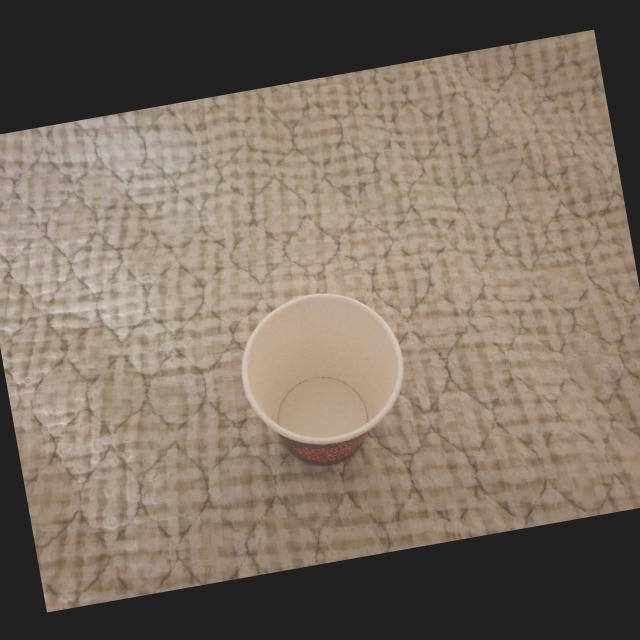trash: (225, 272, 423, 483)
